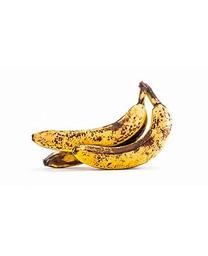banana: (30, 78, 173, 171)
